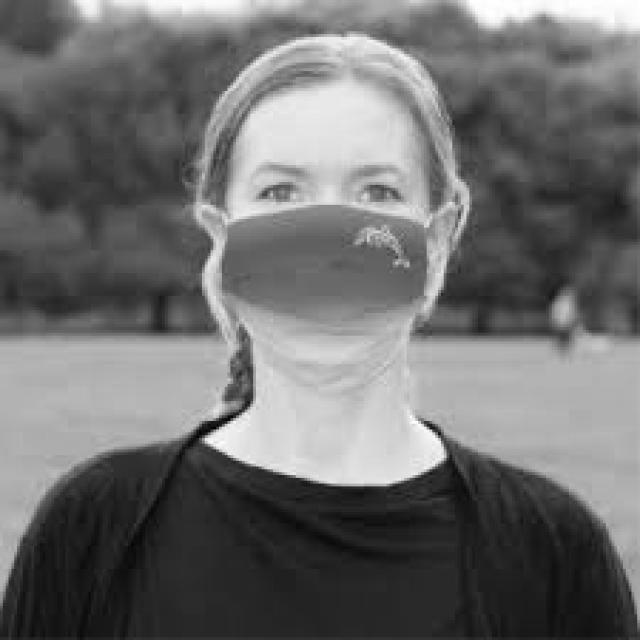fake: (211, 203, 444, 400)
real: (224, 81, 430, 403)
